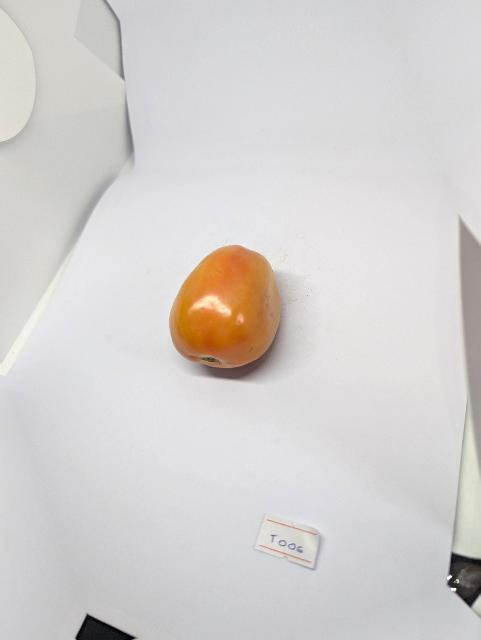turning: (168, 233, 294, 384)
